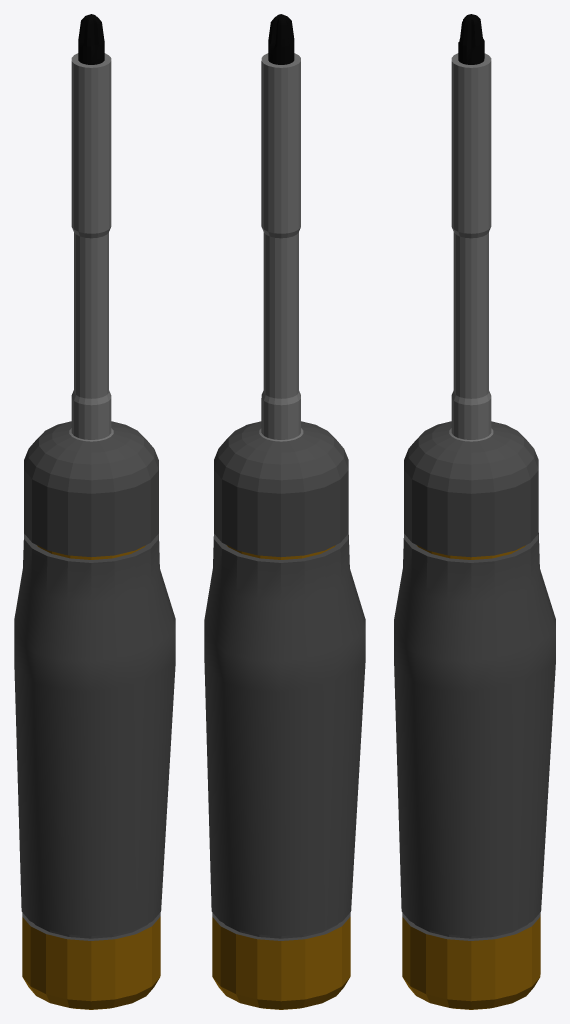
3 renders of one model, left to right at view 1: azimuth 30°, elevation 25°; view 2: azimuth 150°, elevation 25°; view 3: azimuth 270°, elevation 25°, orthographic.
Visible parts, largest first — view 1: pCylinder2; view 2: pCylinder2; view 3: pCylinder2.
Boxes of the visible parts, left/top/right/bottom form: pCylinder2: left=14, top=14, right=175, bottom=1009; pCylinder2: left=204, top=14, right=365, bottom=1009; pCylinder2: left=394, top=14, right=555, bottom=1009.
Bounding box in the file's own units: 1.94 × 12.56 × 1.89.
